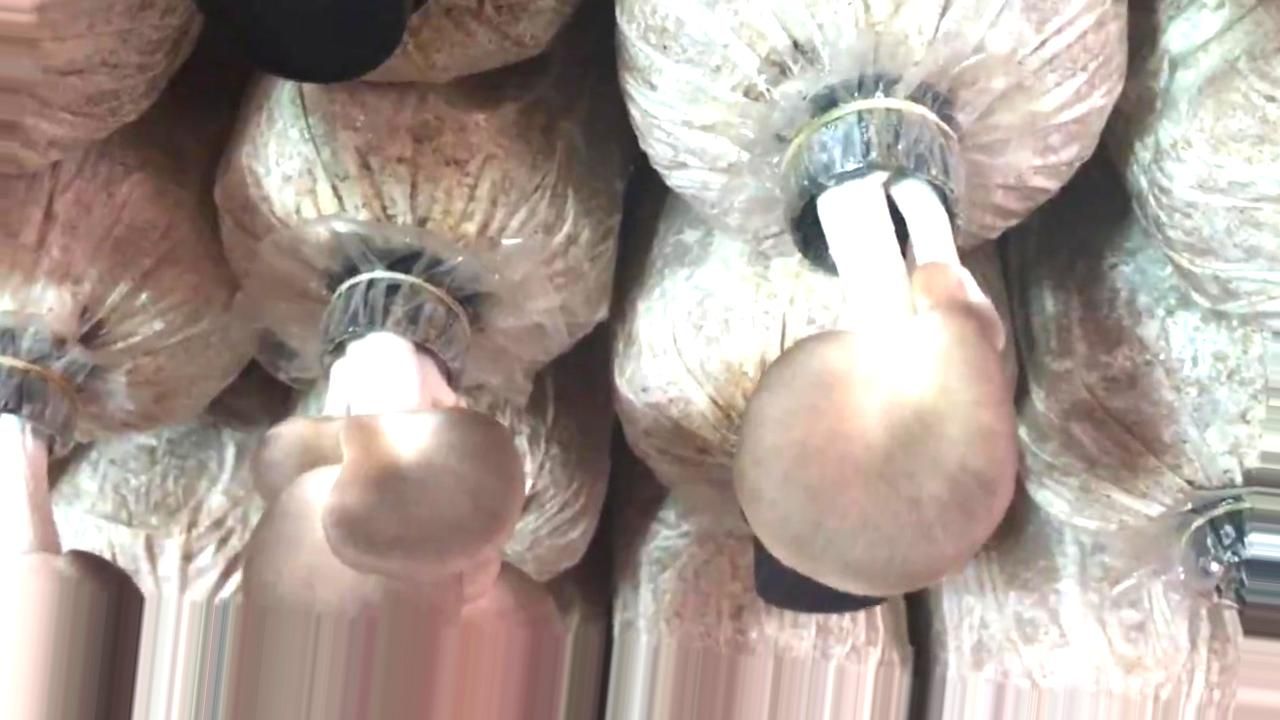nam: (229, 274, 564, 720), (733, 108, 1020, 597), (1, 317, 144, 719)
